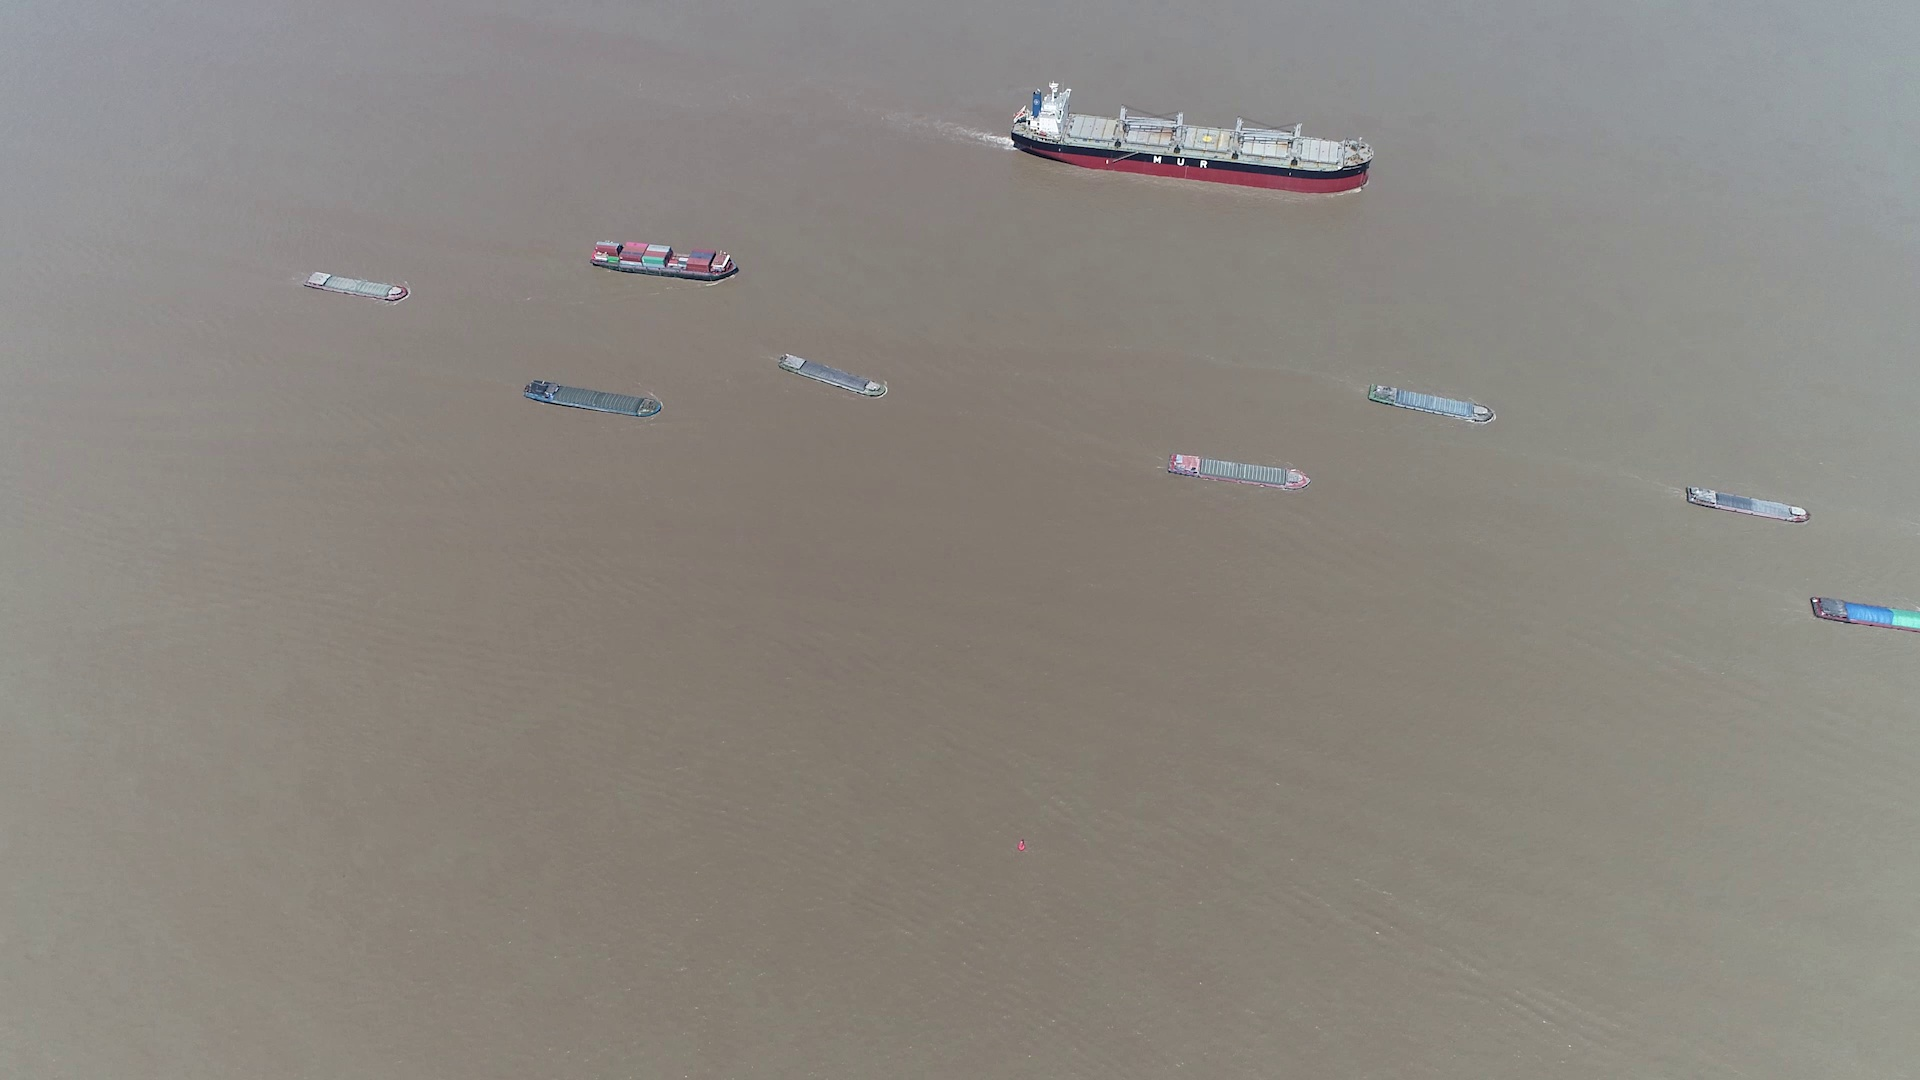ship: (1011, 88, 1371, 191), (589, 241, 741, 282), (1164, 450, 1309, 489), (1369, 381, 1498, 425), (524, 380, 659, 418), (778, 353, 889, 400), (1683, 485, 1811, 525), (1809, 595, 1919, 633), (303, 272, 409, 302)
